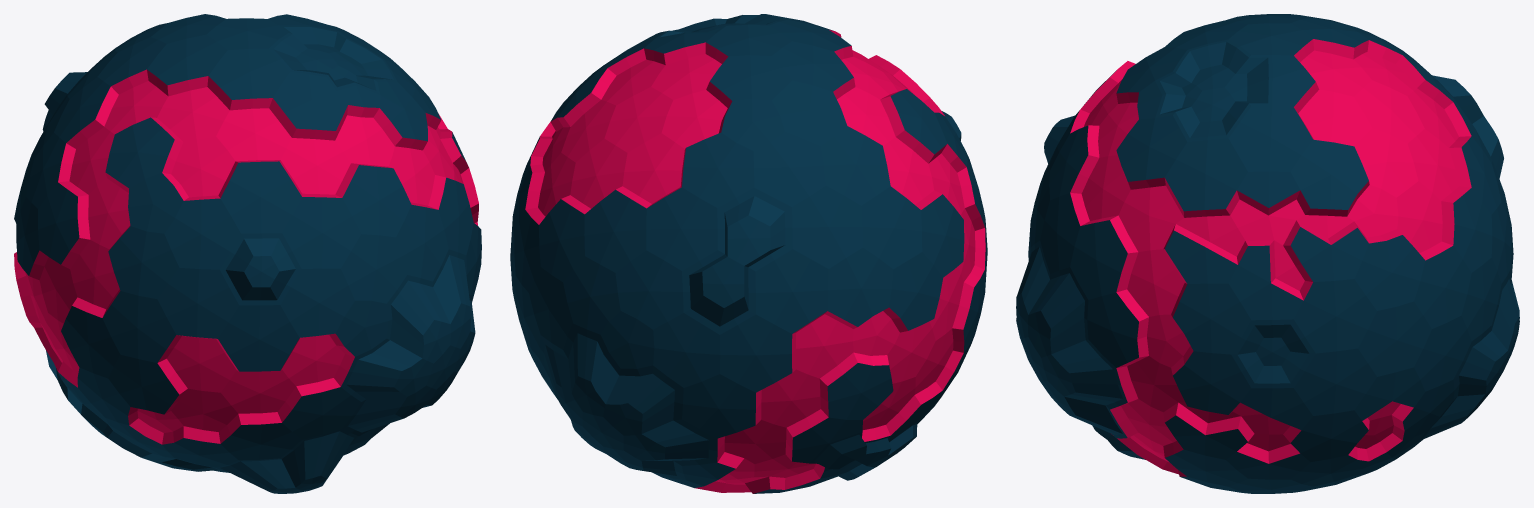
File: Planet1Evo4.glb
The picture shows the model from 3 angles, left to right: view 1: azimuth 30°, elevation 25°; view 2: azimuth 150°, elevation 25°; view 3: azimuth 270°, elevation 25°; orthographic projection. The views are drawn at different scales.
Parts seen in each view (by area): view 1: Icosphere.013; view 2: Icosphere.013; view 3: Icosphere.013.
Boxes of the visible parts, <box> form: Icosphere.013: <box>14,14,481,493</box>; Icosphere.013: <box>510,14,987,493</box>; Icosphere.013: <box>1016,14,1519,493</box>.
Size of the model in its own units: 1.8 by 1.81 by 1.9.
